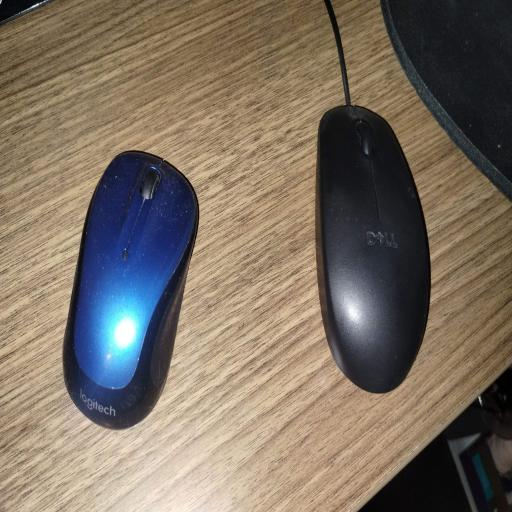mouse: (316, 54, 429, 393), (63, 152, 198, 428)
